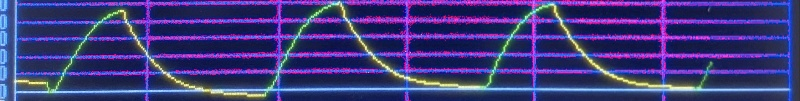normal_volume: (26, 0, 712, 95)
